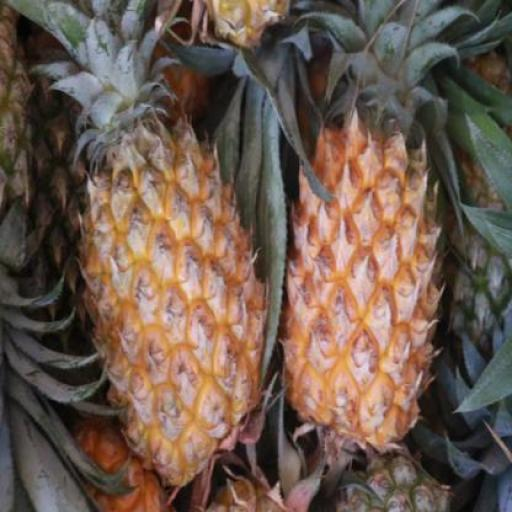Pineapple - v8 v1: (72, 123, 265, 483), (277, 114, 432, 450)
